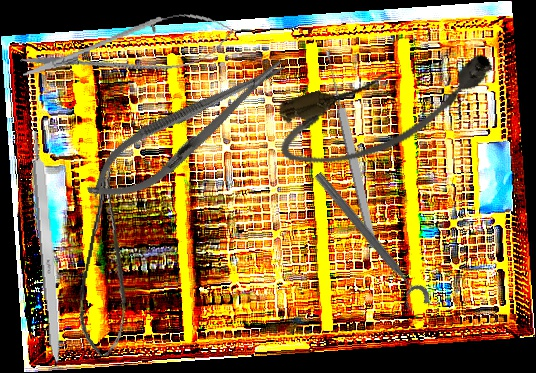Cannula: (267, 39, 508, 180)
Fixation Ring: (303, 168, 434, 316)
Micro Scissor: (16, 2, 238, 97), (71, 165, 147, 359)
Needle Holder: (75, 42, 299, 219)
Scalpel Handle: (29, 129, 67, 367)
Surgical Spoon: (322, 49, 380, 249)
